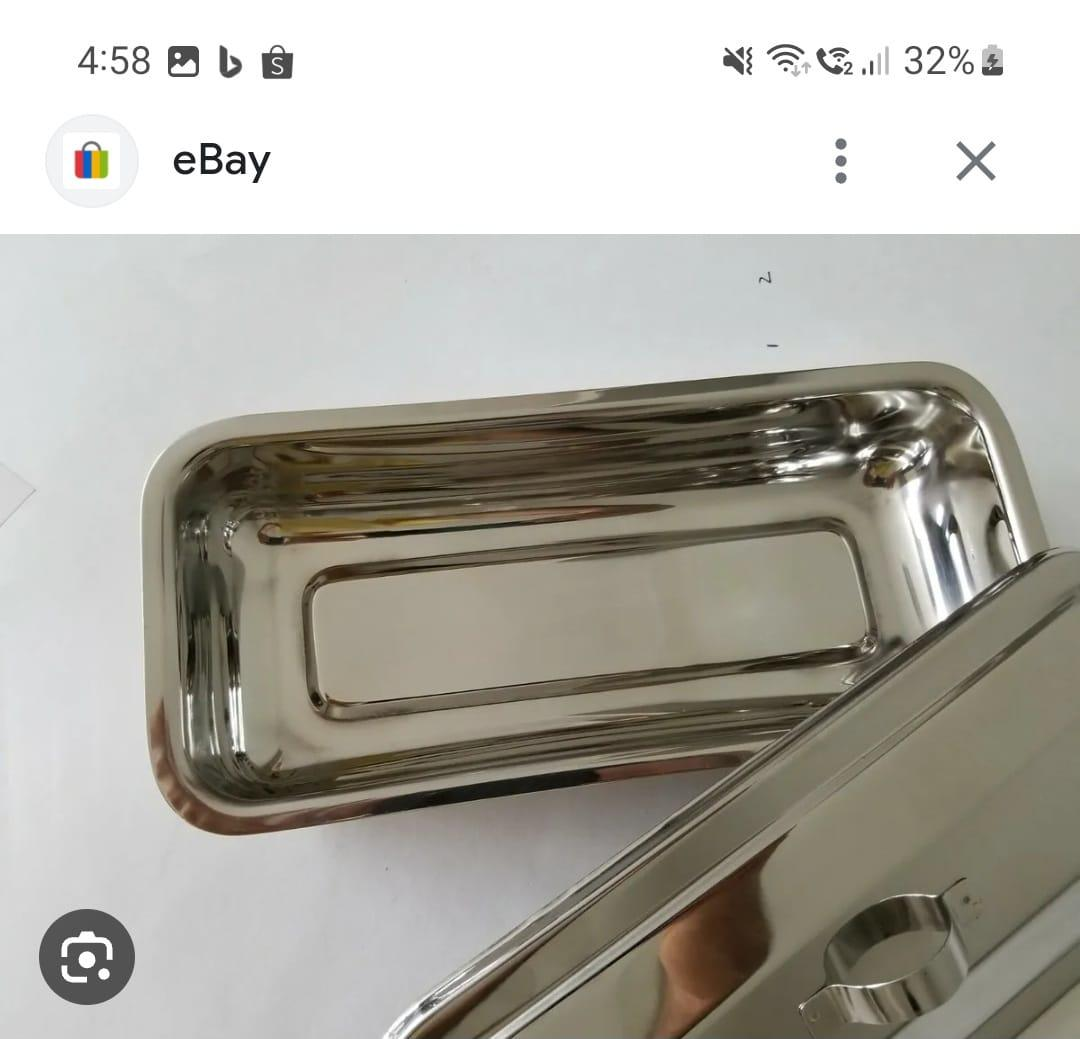Catheter Tray: (125, 342, 1050, 842)
